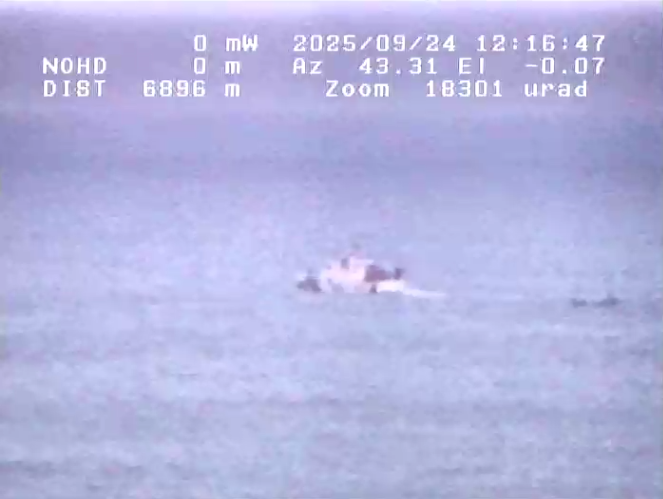PATROL_VESSEL: (276, 250, 433, 311)
